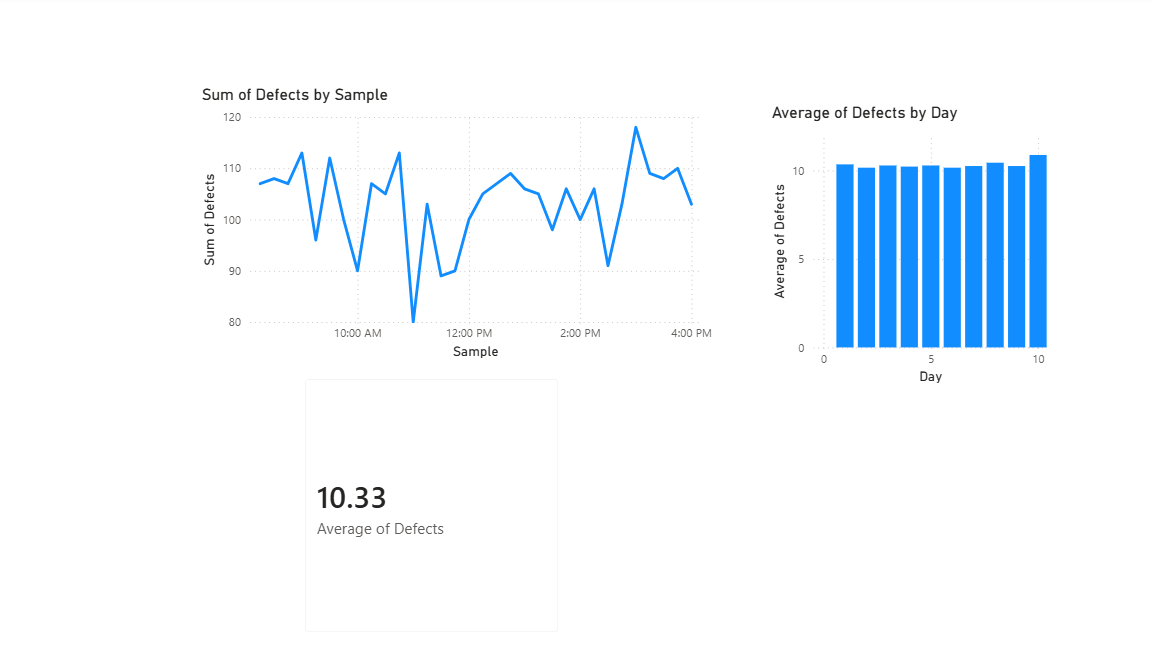

The page's visual inventory and layout, read from the dashboard file:
{"tool":"powerbi","page":{"name":"Page 1","canvas":[1280,720],"ordinal":0},"visuals":[{"type":"lineChart","fields":{"Category":["defects.Sample"],"Y":["Sum(defects.Defects)"]},"box":[271.4,94.6,545.9,291.6],"z":0},{"type":"clusteredColumnChart","fields":{"Category":["defects.Day"],"Y":["Avg(defects.Defects)"]},"box":[870.1,113.2,299.3,299.3],"z":1},{"type":"cardVisual","fields":{"Data":["Avg(defects.Defects)"]},"box":[366.9,386.2,300.7,300.7],"z":2}]}

Visuals, with their boxes in screenshot pixels (x1, y1, x2, y2), scaled from the page's 1280x720 canvas onto the 1152x661 screenshot:
lineChart - defects.Sample x Sum(defects.Defects): detection(244, 87, 736, 355)
clusteredColumnChart - defects.Day x Avg(defects.Defects): detection(783, 104, 1052, 379)
cardVisual - Avg(defects.Defects): detection(330, 355, 601, 631)
